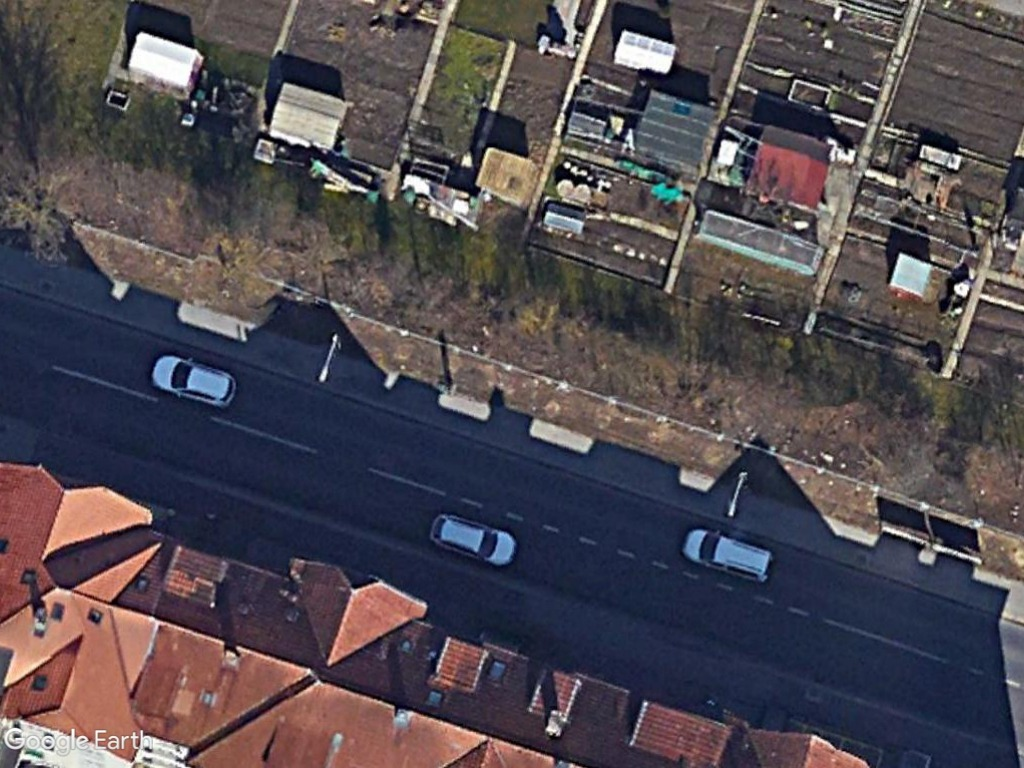car: (679, 528, 779, 585), (428, 511, 522, 571), (150, 353, 240, 411)
